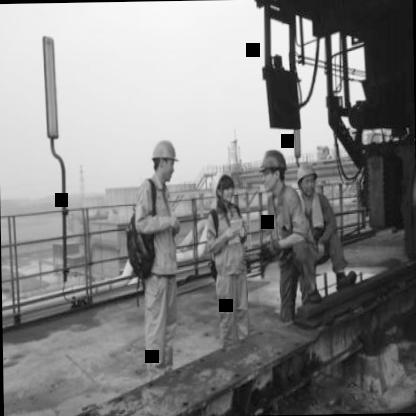helmet: (148, 133, 179, 187), (258, 146, 288, 194), (292, 160, 318, 201), (212, 168, 236, 210)
